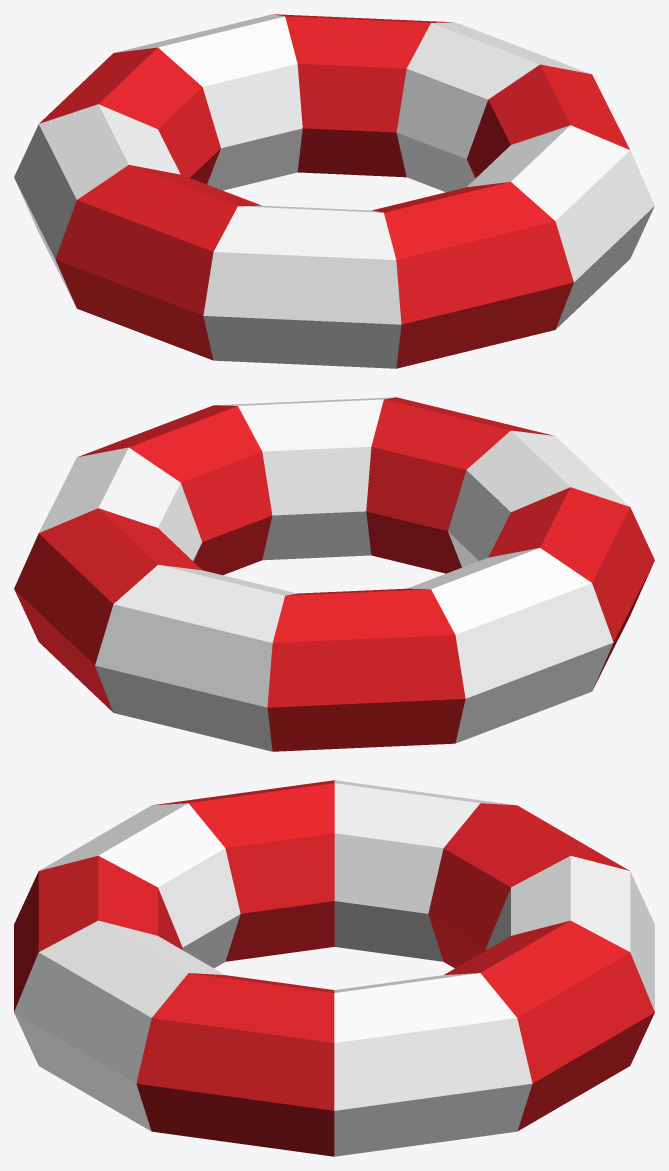
The model's file is Float.fbx.
The picture shows the model from 3 angles, top to bottom: view 1: azimuth 30°, elevation 25°; view 2: azimuth 150°, elevation 25°; view 3: azimuth 270°, elevation 25°; orthographic projection. The views are drawn at different scales.
Parts seen in each view (by area): view 1: Float; view 2: Float; view 3: Float.
Part boxes in pixels (x1,y1,x2,y2): Float: (14, 14, 654, 368); Float: (14, 397, 654, 751); Float: (14, 780, 654, 1156).
Size of the model in its own units: 0.9898 by 0.2605 by 0.9413.
